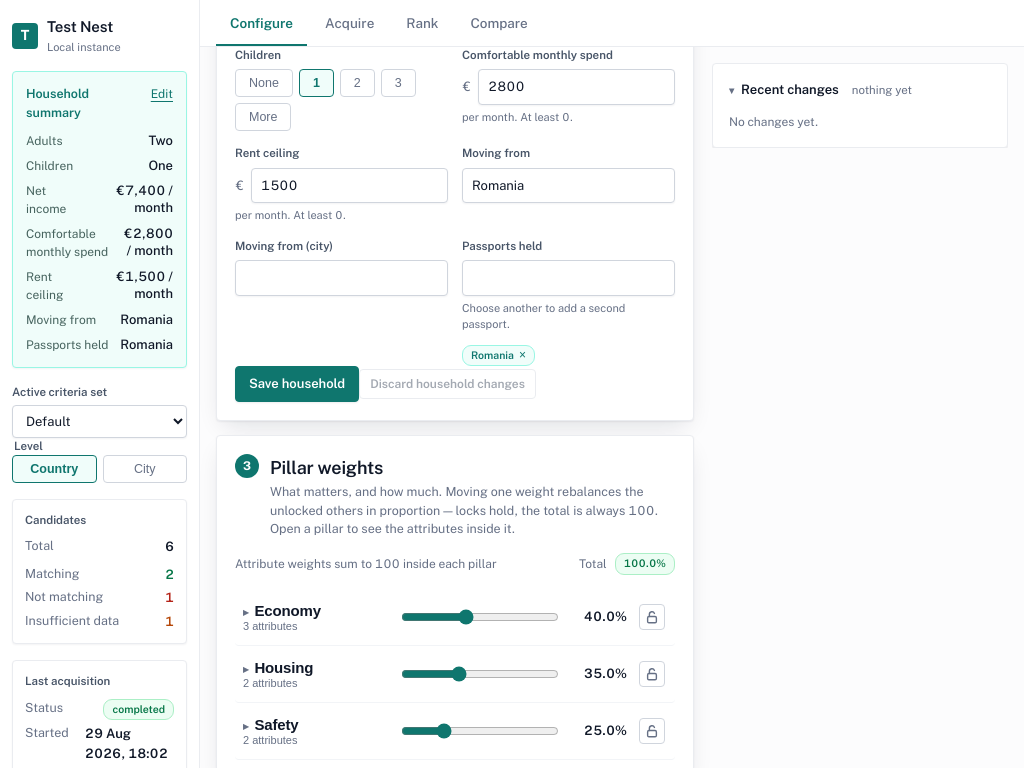
what the sidebar reads again › reads nothing again when a save is refused
The width and height of the screenshot is (1024, 768).
(page scrolled)
Expected: the dropdown labelled "Active criteria set" shows "Default", [12,405,187,438]
Expected: the text "€2,800 / month" is shown, [120,224,173,260]
Click the button "Save household" at [297, 384], box [235,366,359,402]
(page scrolled)
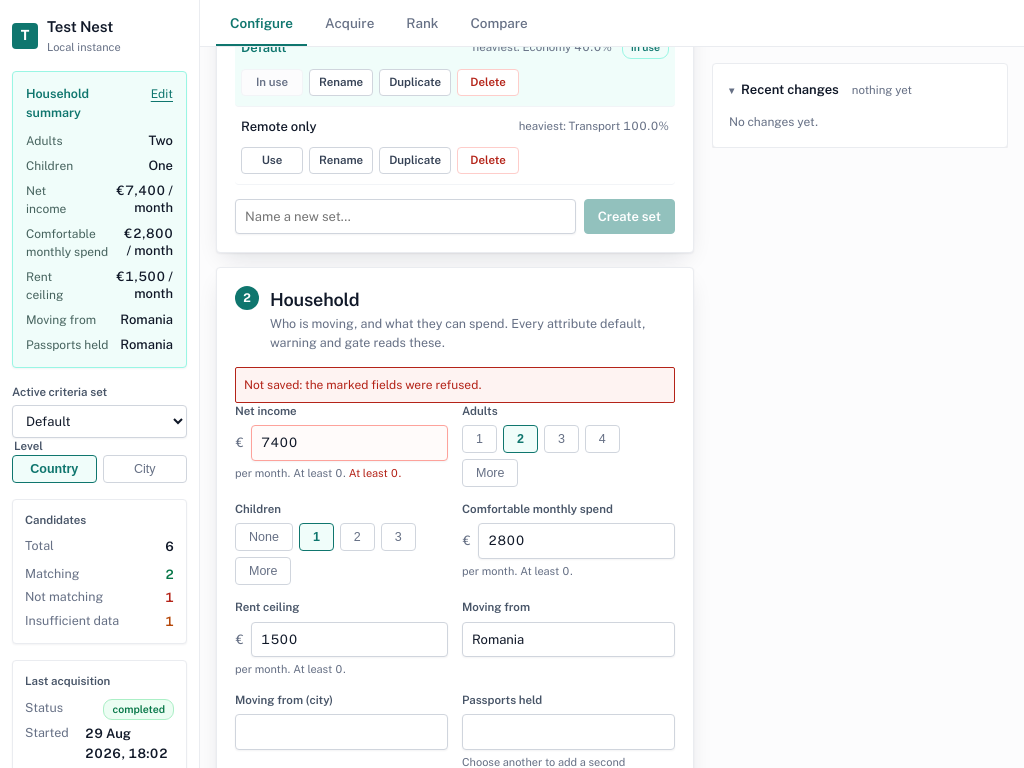
Result: the message shows "Not saved" at [244,378,482,392]
